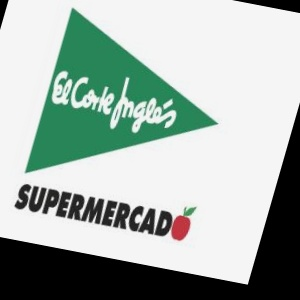corte_ingles: (148, 28, 234, 116)
